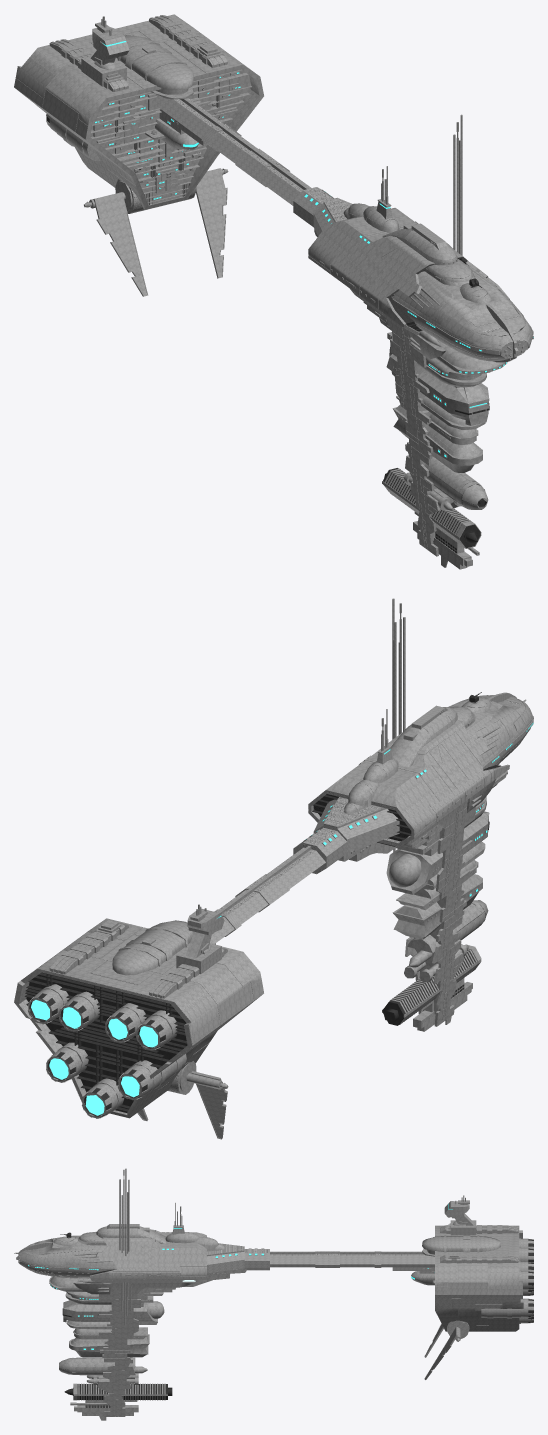
Rendered from nebulon.glb.
3 renders of one model, top to bottom at view 1: azimuth 30°, elevation 25°; view 2: azimuth 150°, elevation 25°; view 3: azimuth 270°, elevation 25°, orthographic. The views are drawn at different scales.
Parts seen in each view (by area): view 1: GreeblesFrontSection2_0, BackSection_1; view 2: GreeblesFrontSection2_0, BackSection_1, Engines_1; view 3: GreeblesFrontSection2_0, BackSection_1.
Boxes of the visible parts, x1,y1,x2,y2 form: GreeblesFrontSection2_0: (14, 14, 533, 569); BackSection_1: (46, 116, 489, 553); GreeblesFrontSection2_0: (14, 598, 533, 1139); BackSection_1: (24, 692, 500, 1116); Engines_1: (31, 1000, 157, 1115); GreeblesFrontSection2_0: (14, 1168, 533, 1420); BackSection_1: (60, 1232, 533, 1407).
Size of the model in its own units: 145 by 333 by 599.
Materials: 6 (2 with a texture image).
